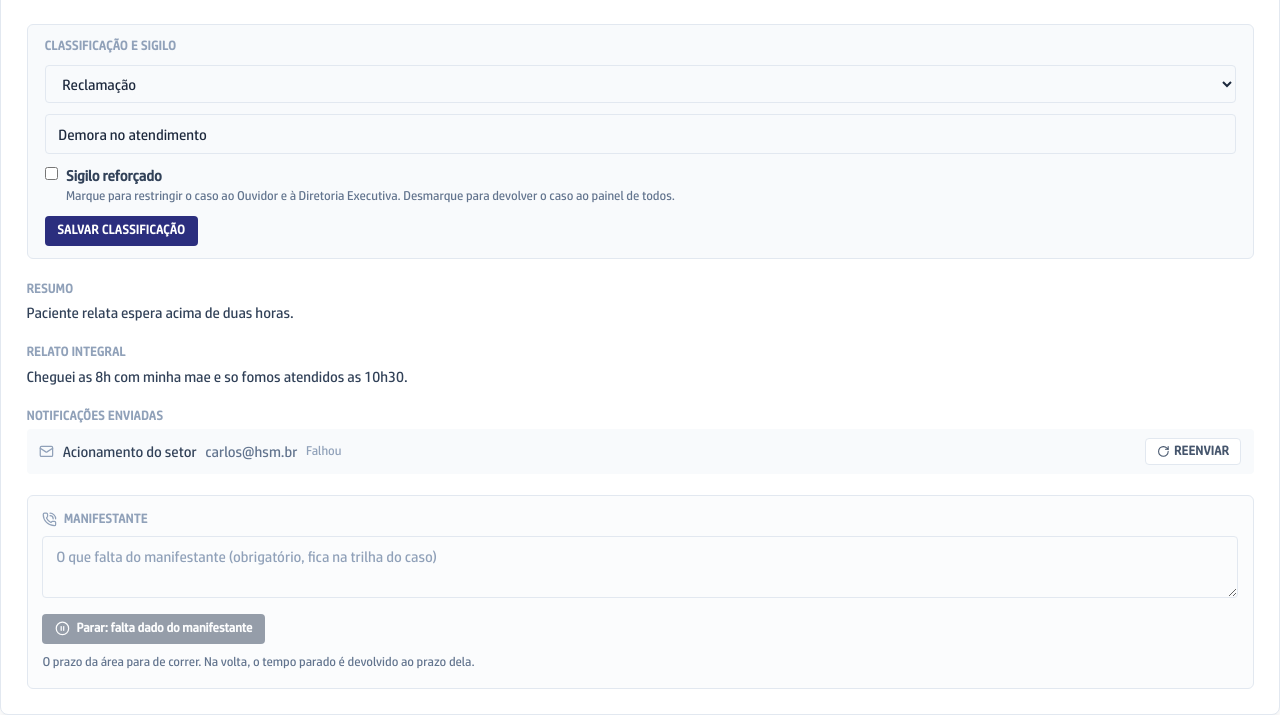
Test: o motivo da recusa do reenvio na tela (issue #707) › sem motivo, a frase do provedor continua valendo
The image size is (1280, 715).
(page scrolled)
Click the button "Reenviar" at (1193, 452), box x1=1145 y1=438 x2=1241 y2=465
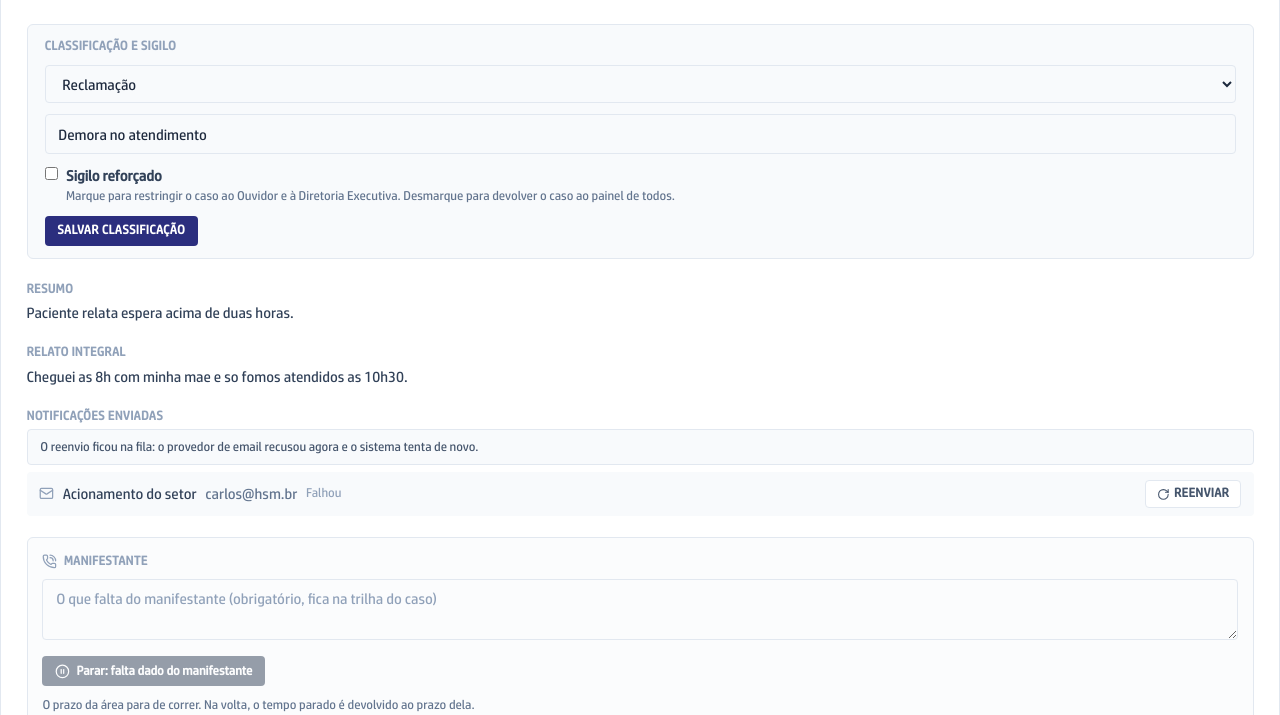
Check: the text "o provedor de email recusou agora" is shown, box x1=40 y1=439 x2=478 y2=454
